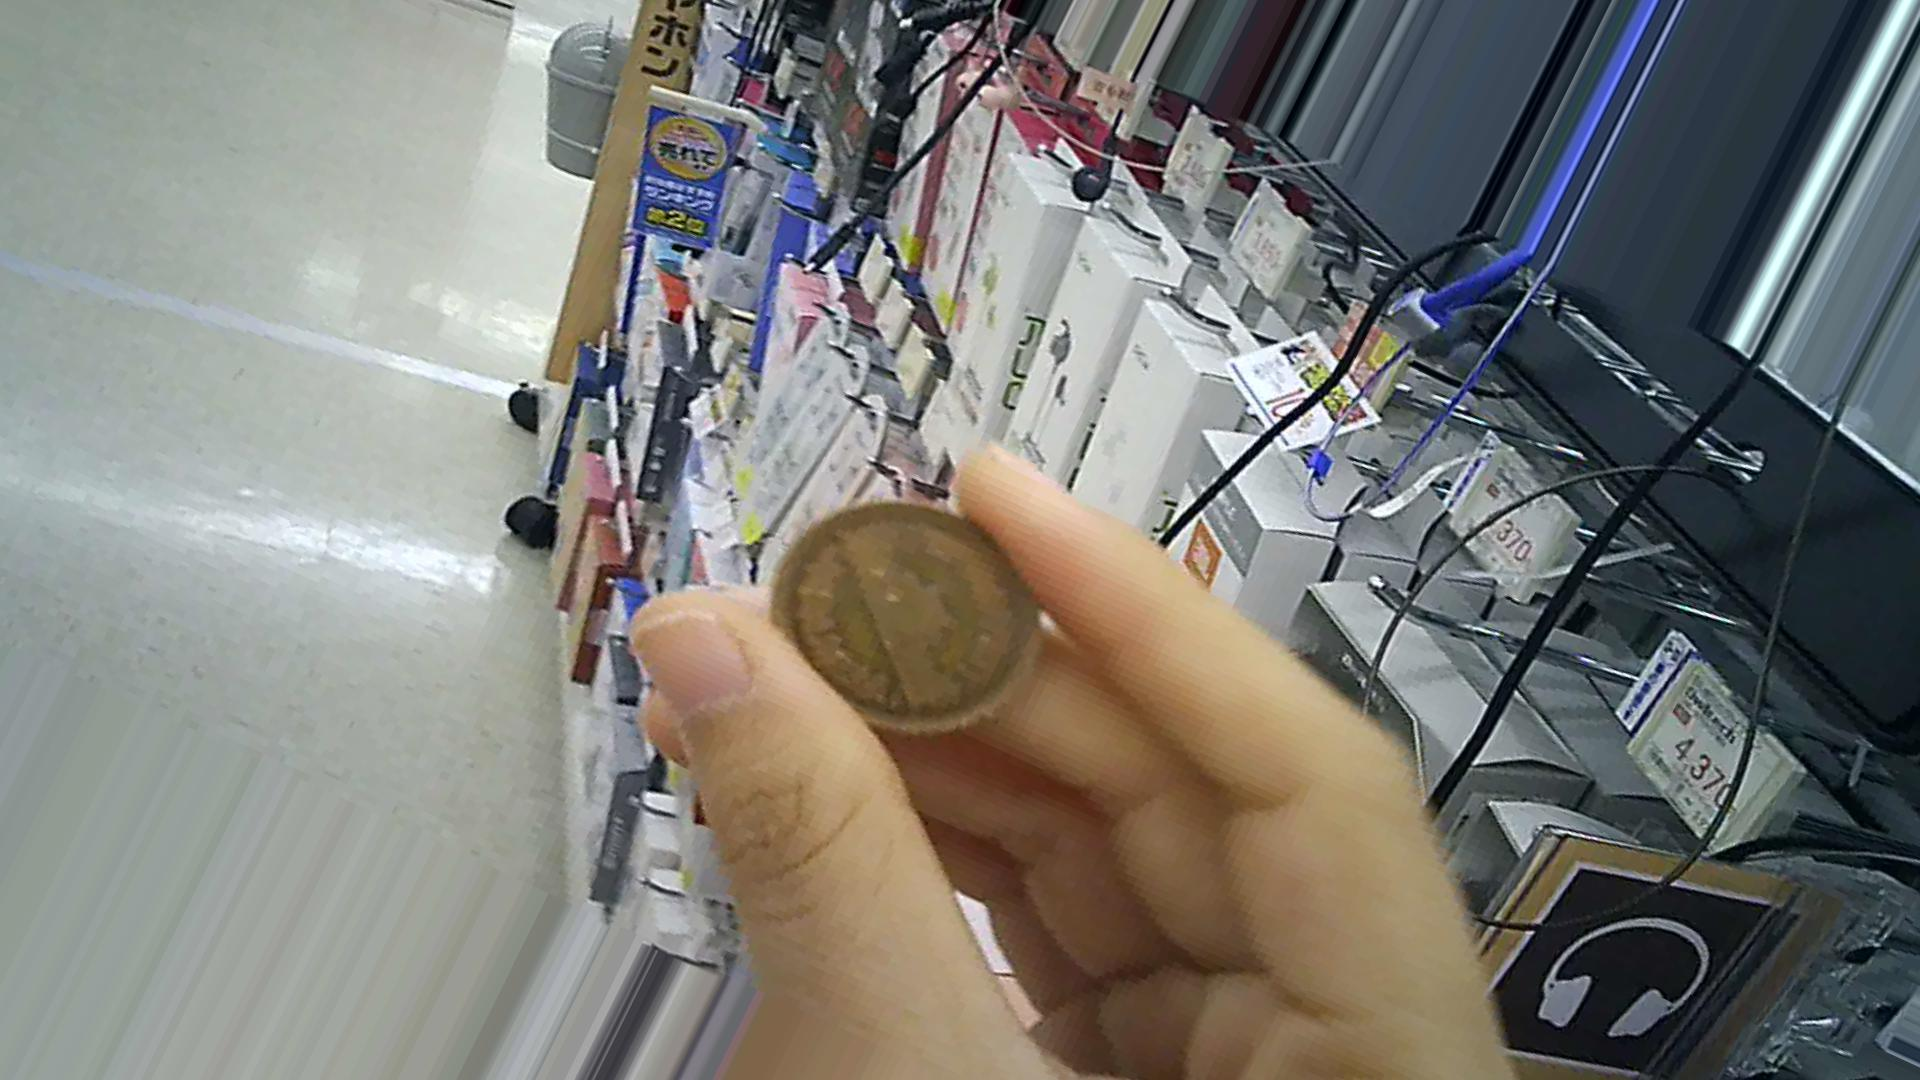10 Yen: (774, 506, 1026, 721)
